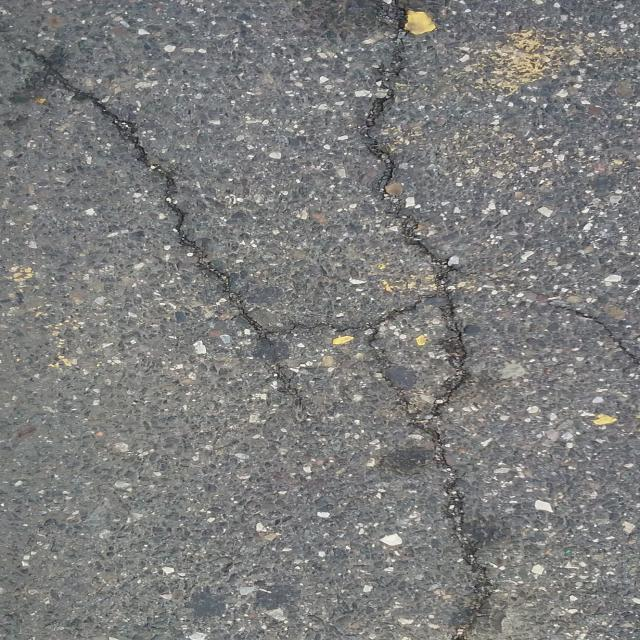Crack: (26, 0, 497, 640), (468, 272, 640, 366)
